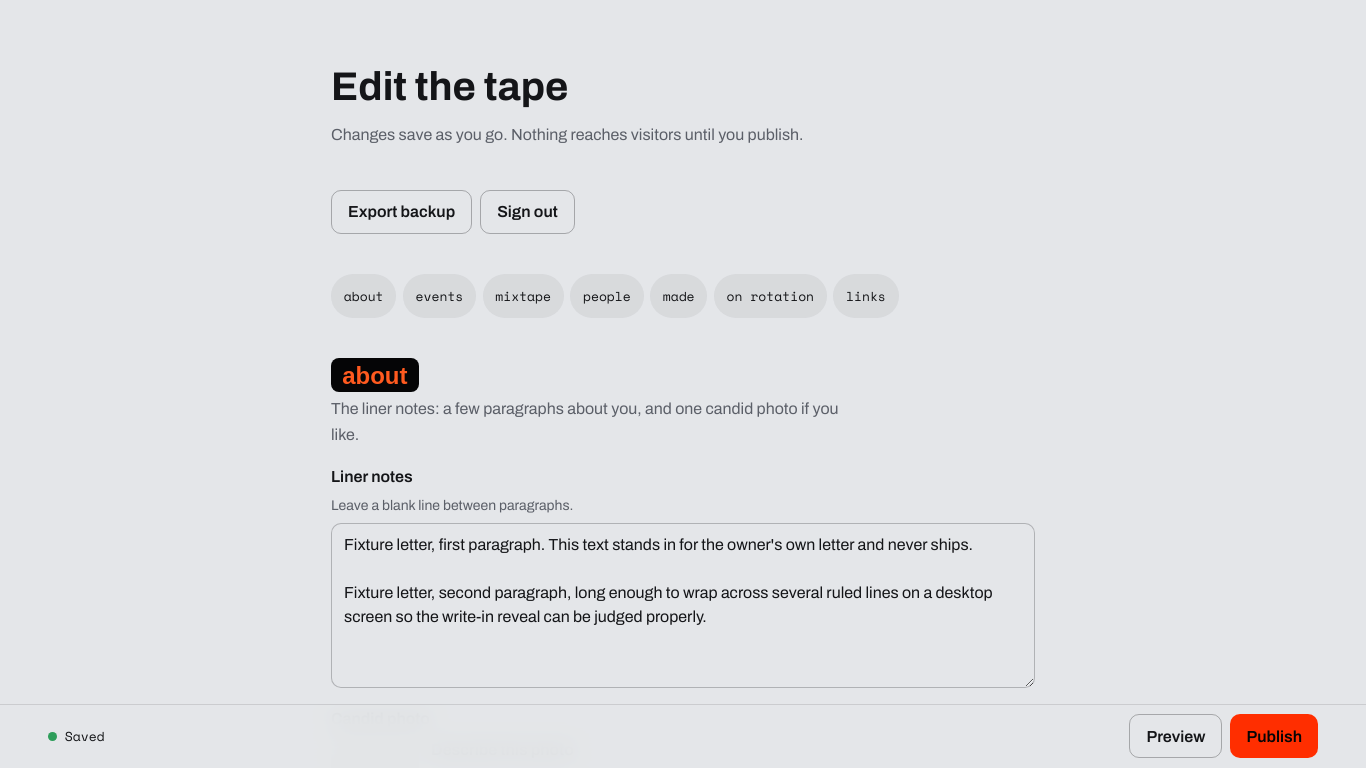
Test case: publishing asks once, then publishes the saved revision
Click the button "Publish" at (1274, 736), box [1230,714,1318,758]
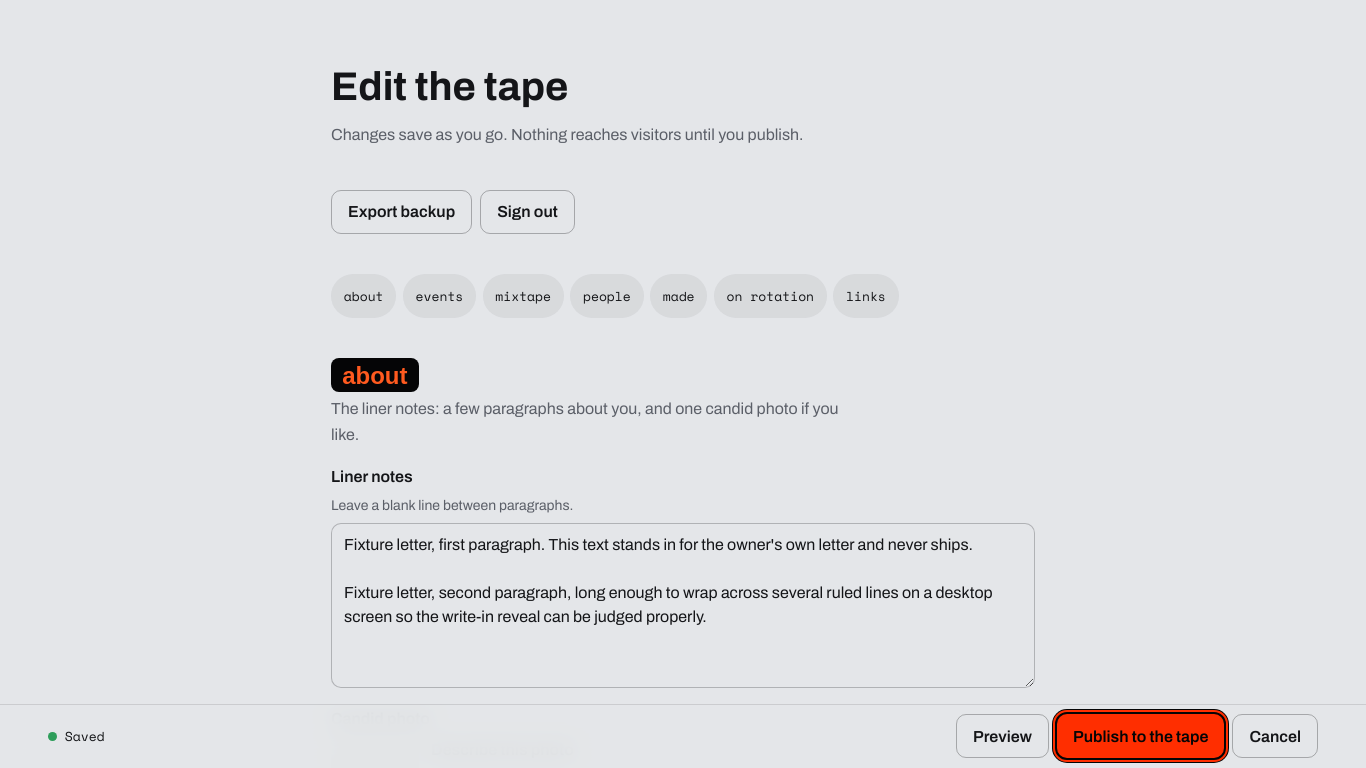
Click the button "Publish to the tape" at (1141, 736), box [1057,714,1224,758]
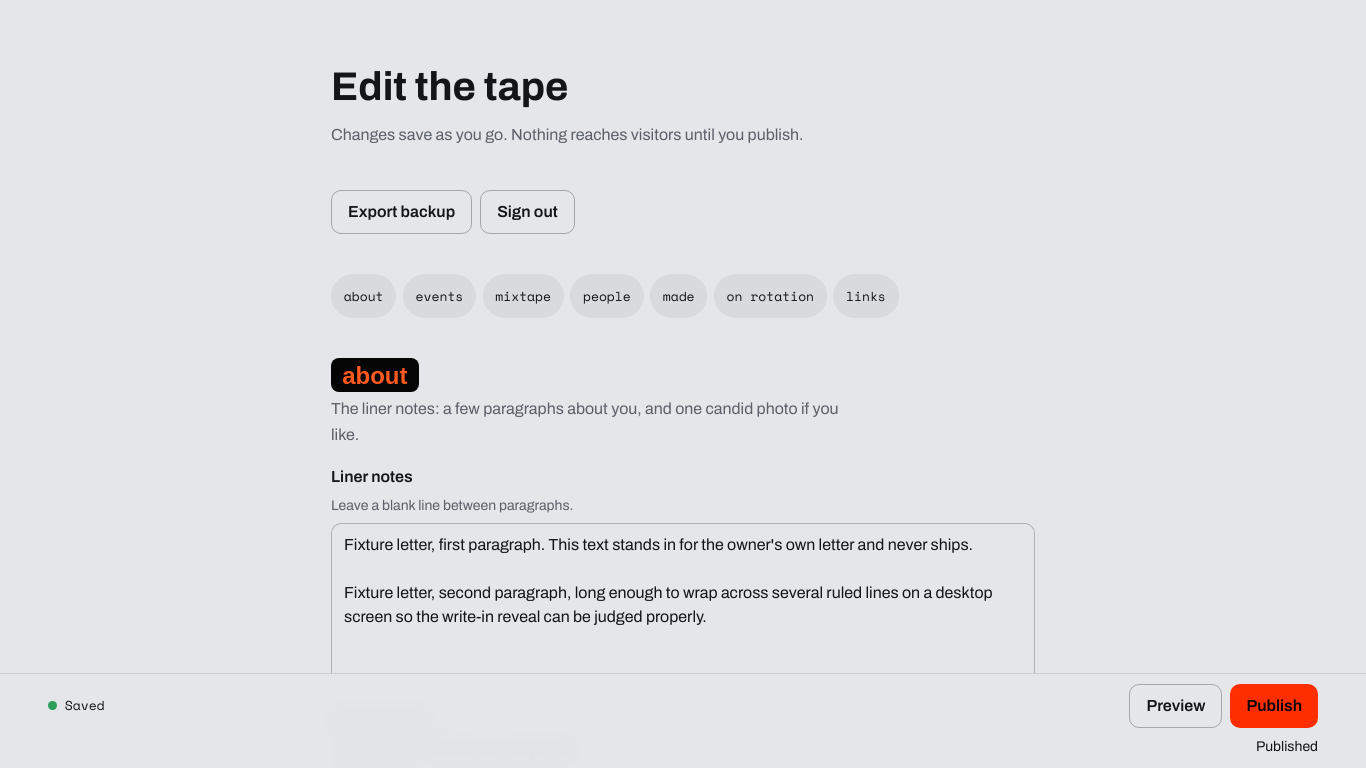
Check: the text "Published" is shown, box [1256,739,1318,754]
